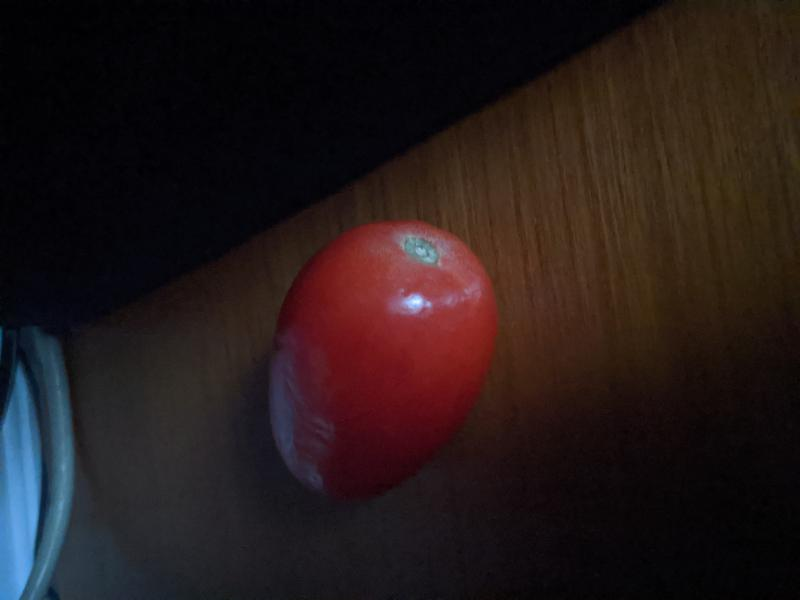tomato: (266, 221, 502, 504)
